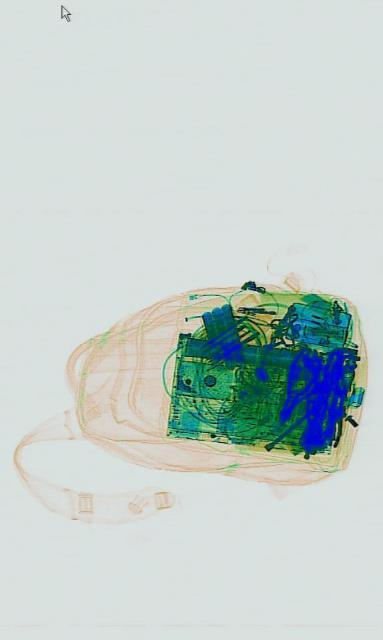Pliers: (269, 339, 326, 433)
